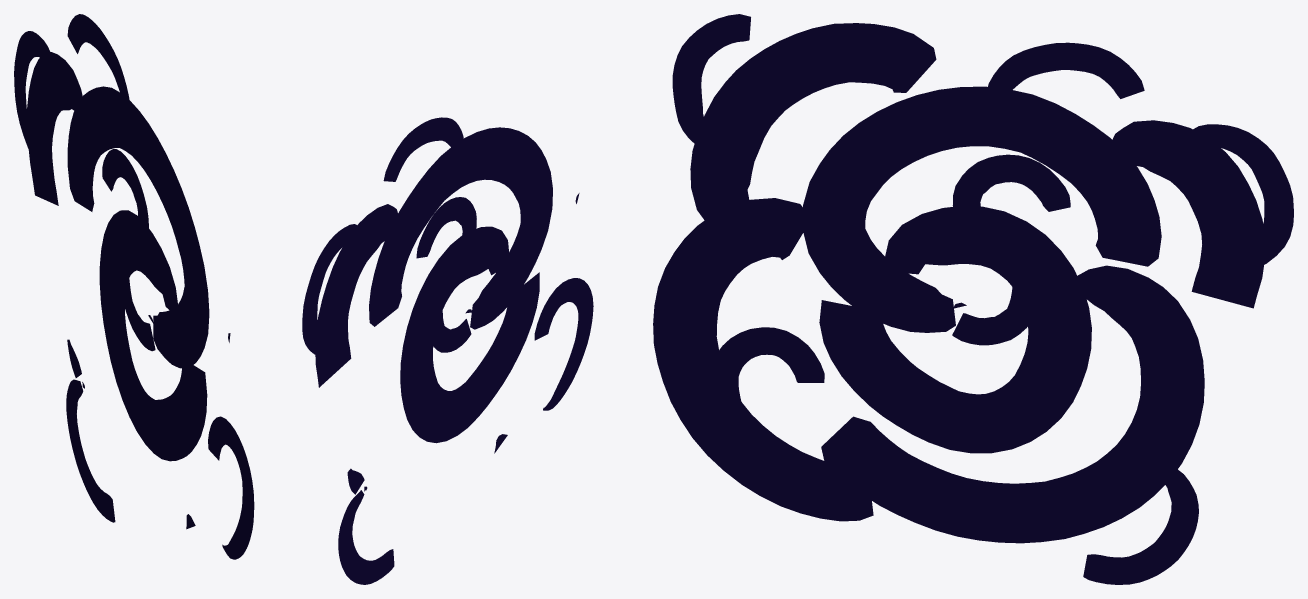
3 views of the same model, side by side, from view 1: azimuth 30°, elevation 25°; view 2: azimuth 150°, elevation 25°; view 3: azimuth 270°, elevation 25° (orthographic). The views are drawn at different scales.
Visible parts, largest first — view 1: brush_DoubleTaperedMarker_g1_b0; view 2: brush_DoubleTaperedMarker_g1_b0; view 3: brush_DoubleTaperedMarker_g1_b0.
Part boxes in pixels (x1,y1,x2,y2): brush_DoubleTaperedMarker_g1_b0: (14, 14, 254, 559); brush_DoubleTaperedMarker_g1_b0: (302, 117, 593, 584); brush_DoubleTaperedMarker_g1_b0: (653, 14, 1293, 584).
Bounding box in the file's own units: 1.42 × 9.98 × 10.74.
